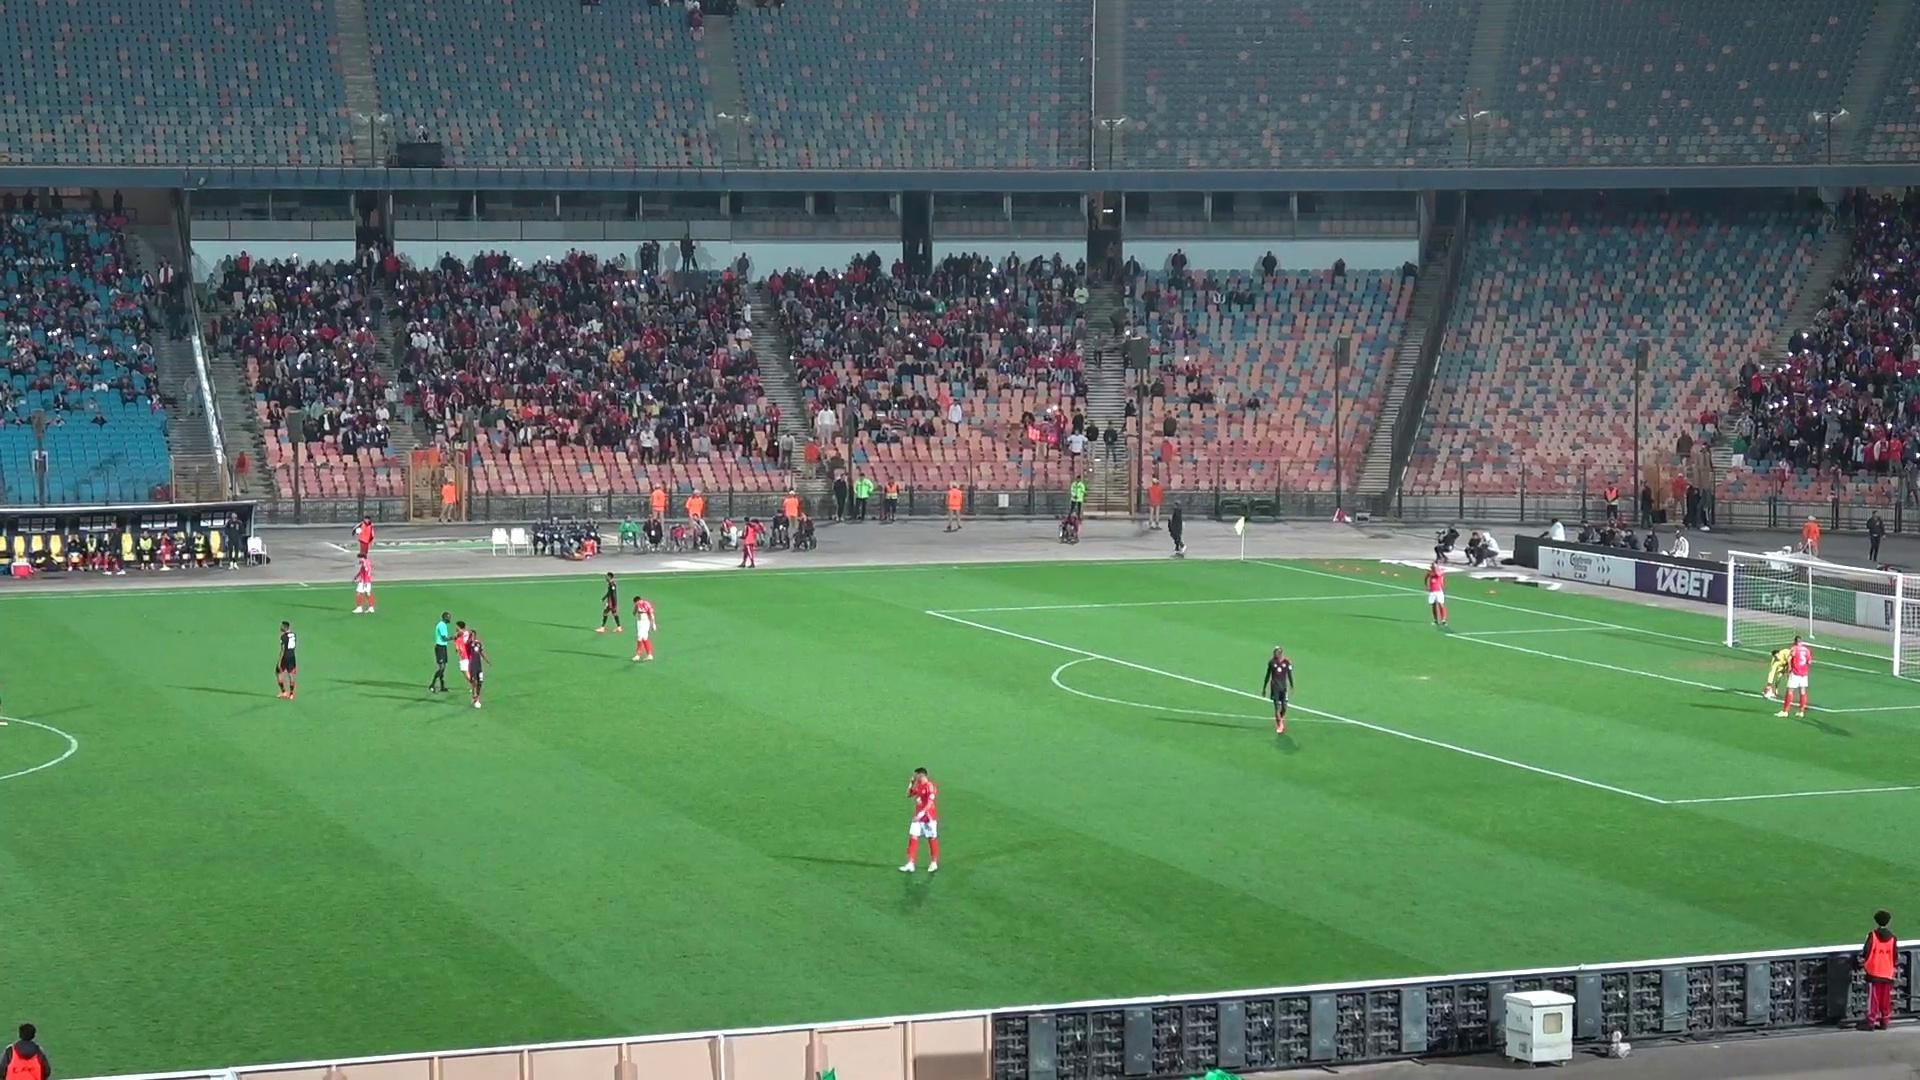Ball: (1760, 684, 1778, 700)
GK1: (1760, 644, 1796, 698)
Refree: (429, 613, 454, 694)
Team1: (899, 767, 939, 873), (1776, 636, 1811, 716), (632, 596, 655, 662), (1425, 559, 1447, 630), (352, 554, 375, 615), (454, 621, 472, 691)
Team2: (1261, 647, 1294, 736), (458, 624, 487, 708), (273, 621, 297, 699), (593, 572, 622, 633)
